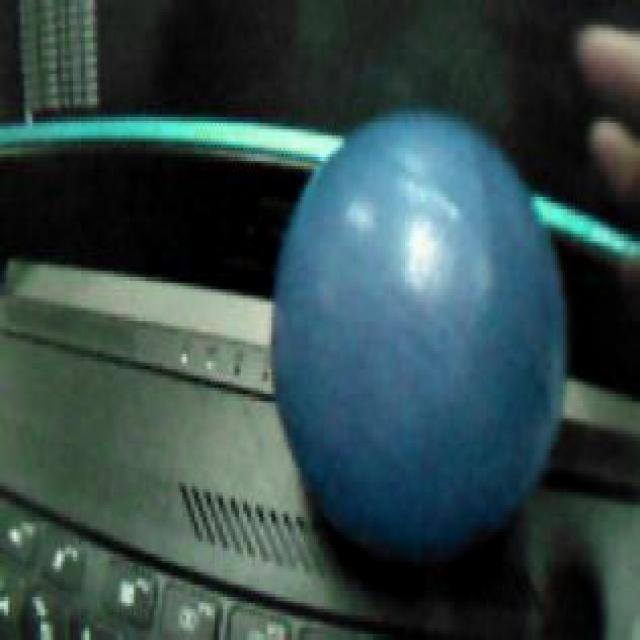BallPurple: (273, 107, 563, 563)
